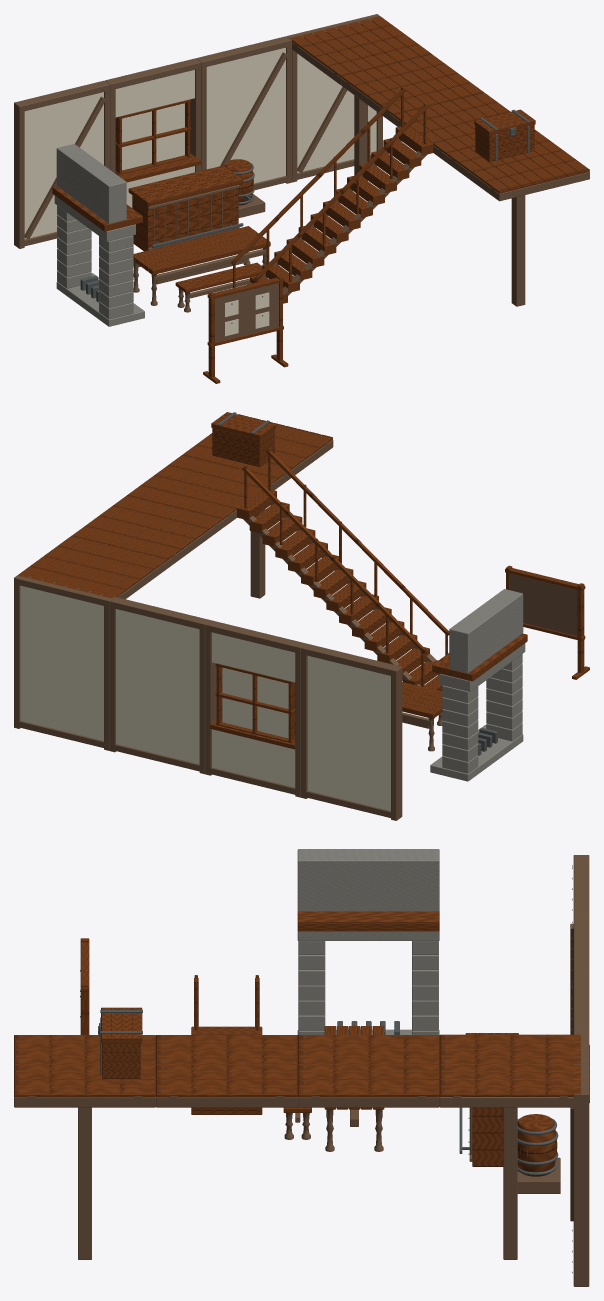
File: guild-tavern-light.glb
3 views of the same model, one above another, from view 1: azimuth 30°, elevation 25°; view 2: azimuth 150°, elevation 25°; view 3: azimuth 270°, elevation 25° (orthographic). The views are drawn at different scales.
Visible parts, largest first — view 1: 029-fireplace-wall0, 026-staircase-run0, 018-timber-wall-straight2, 016-timber-wall-straight2, 019-timber-wall-straight2, 020-mezzanine-floor-tile1, 021-mezzanine-floor-tile1, 016-timber-wall-straight0, 023-mezzanine-floor-tile1, 027-bar-counter-straight0, 018-timber-wall-straight0, 022-mezzanine-floor-tile1 (+22 smaller); view 2: 026-staircase-run0, 029-fireplace-wall0, 019-timber-wall-straight2, 018-timber-wall-straight2, 016-timber-wall-straight2, 017-window-bay2, 021-mezzanine-floor-tile1, 020-mezzanine-floor-tile1, 022-mezzanine-floor-tile1, 016-timber-wall-straight0, 017-window-bay0, 018-timber-wall-straight0 (+12 smaller); view 3: 029-fireplace-wall0, 021-mezzanine-floor-tile1, 020-mezzanine-floor-tile1, 022-mezzanine-floor-tile1, 023-mezzanine-floor-tile1, 019-timber-wall-straight0, 029-fireplace-wall1, 024-mezzanine-support-post0, 025-mezzanine-support-post0, 027-bar-counter-straight0, 028-keg-on-stand1, 026-staircase-run0 (+14 smaller).
Part boxes in pixels (x1,y1,x2,y2): 029-fireplace-wall0: (54, 144, 144, 326); 026-staircase-run0: (230, 86, 433, 303); 018-timber-wall-straight2: (206, 47, 285, 183); 016-timber-wall-straight2: (24, 92, 103, 239); 019-timber-wall-straight2: (297, 54, 376, 172); 020-mezzanine-floor-tile1: (290, 16, 432, 77); 021-mezzanine-floor-tile1: (342, 54, 484, 116); 016-timber-wall-straight0: (14, 80, 110, 248); 023-mezzanine-floor-tile1: (447, 131, 589, 193); 027-bar-counter-straight0: (132, 188, 238, 251); 018-timber-wall-straight0: (196, 36, 291, 189); 022-mezzanine-floor-tile1: (394, 93, 536, 154); 026-staircase-run0: (237, 448, 449, 691); 029-fireplace-wall0: (430, 589, 525, 781); 019-timber-wall-straight2: (20, 585, 103, 740); 018-timber-wall-straight2: (116, 609, 199, 764); 016-timber-wall-straight2: (307, 656, 390, 810); 017-window-bay2: (212, 632, 295, 787); 021-mezzanine-floor-tile1: (73, 495, 222, 560); 020-mezzanine-floor-tile1: (17, 535, 167, 598); 022-mezzanine-floor-tile1: (128, 454, 277, 519); 016-timber-wall-straight0: (301, 643, 402, 820); 017-window-bay0: (205, 620, 306, 797); 018-timber-wall-straight0: (109, 597, 210, 774); 029-fireplace-wall0: (297, 849, 439, 1034); 021-mezzanine-floor-tile1: (297, 1035, 439, 1097); 020-mezzanine-floor-tile1: (439, 1034, 580, 1096); 022-mezzanine-floor-tile1: (156, 1035, 297, 1097); 023-mezzanine-floor-tile1: (14, 1035, 155, 1097); 019-timber-wall-straight0: (570, 1034, 589, 1286); 029-fireplace-wall1: (297, 911, 439, 931); 024-mezzanine-support-post0: (503, 1107, 517, 1259); 025-mezzanine-support-post0: (78, 1107, 91, 1259); 027-bar-counter-straight0: (472, 1107, 503, 1166); 028-keg-on-stand1: (517, 1114, 556, 1176); 026-staircase-run0: (191, 975, 262, 1114).
Bounding box in the file's own units: 8.38 × 3.85 × 8.12.
5 materials, 2 textured.
